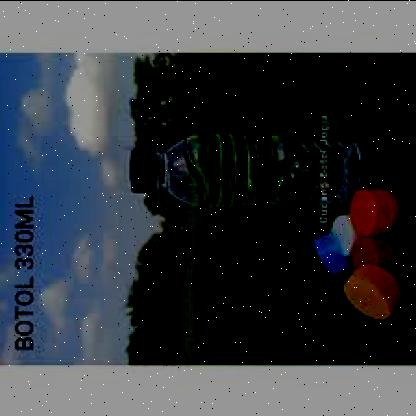Plastic Bottle: (128, 132, 372, 210), (310, 213, 360, 275)
